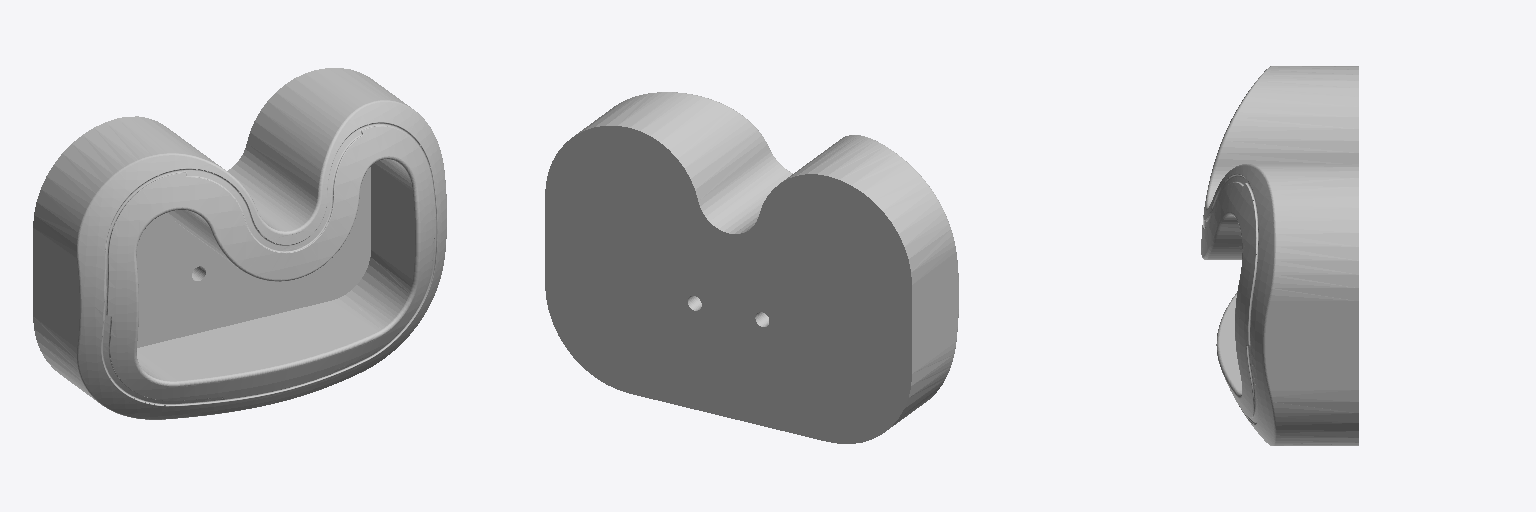
The model's file is cad.obj.
3 views of the same model, side by side, from view 1: azimuth 30°, elevation 25°; view 2: azimuth 150°, elevation 25°; view 3: azimuth 270°, elevation 25° (orthographic).
Bounding box in the file's own units: 65 × 45 × 24.2.